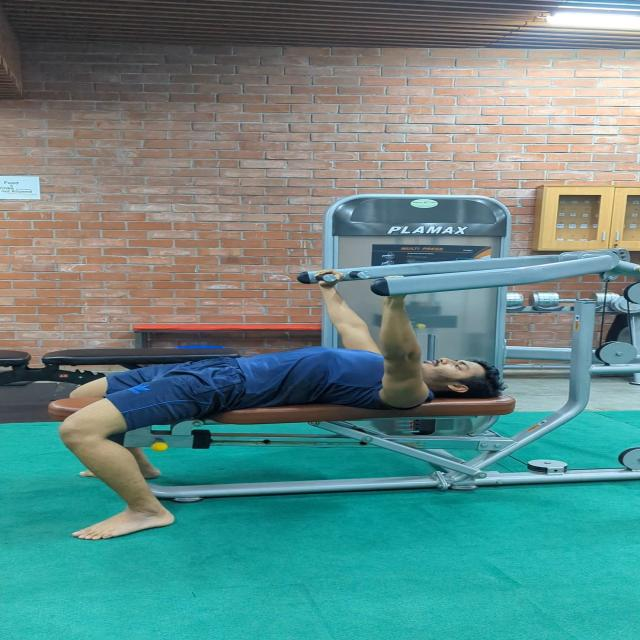Normal_BrenchPress: (41, 262, 528, 550)
